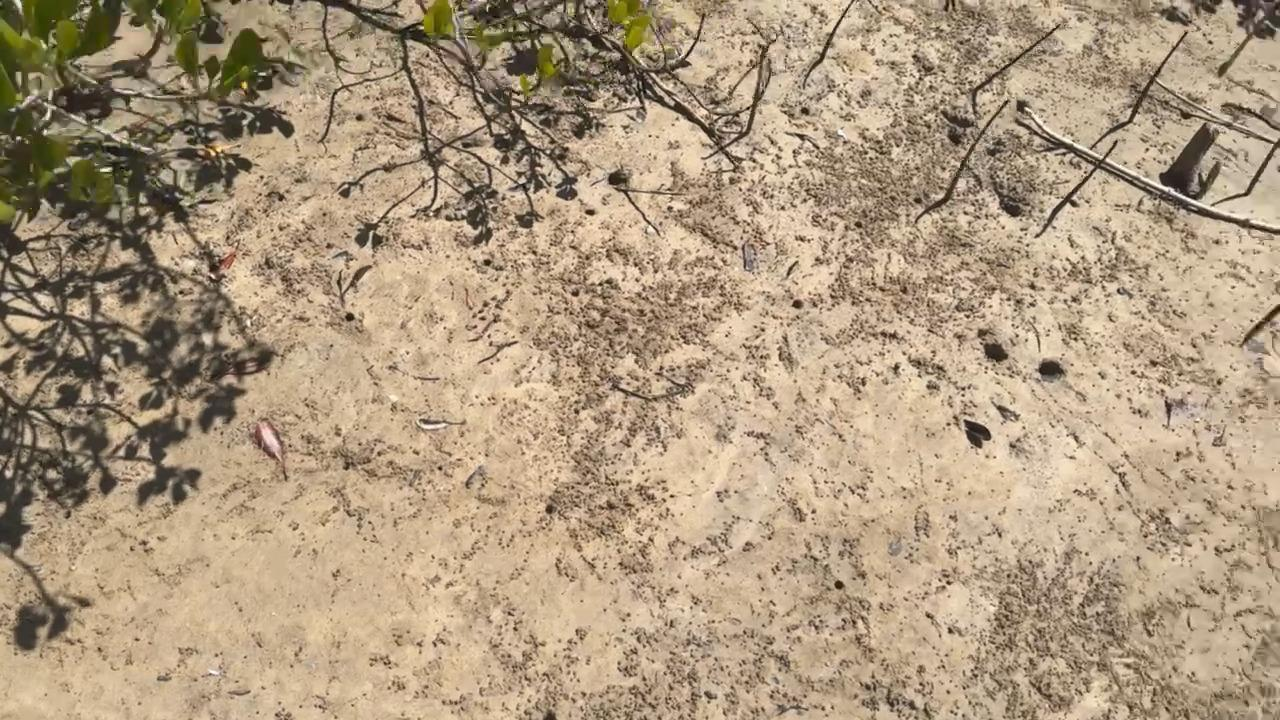Tree: (944, 99, 1011, 201), (972, 23, 1062, 94), (1128, 31, 1189, 123), (1051, 139, 1118, 217), (1243, 136, 1280, 198), (819, 0, 854, 63), (745, 49, 764, 133)
